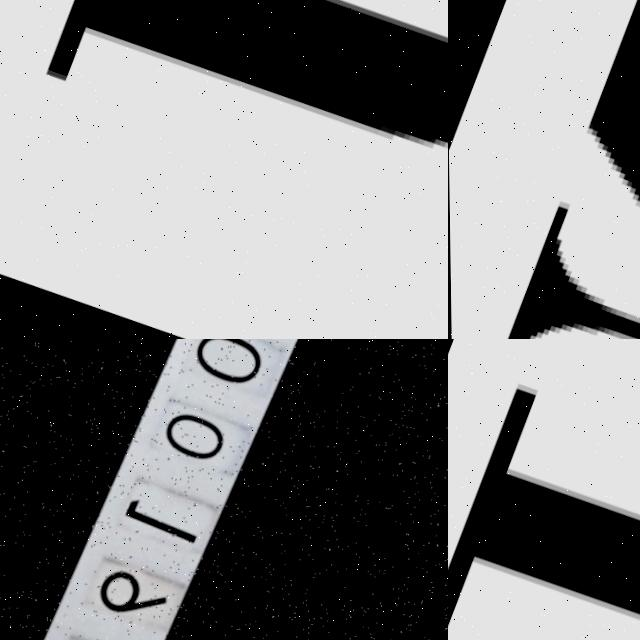0: (140, 390, 242, 481), (168, 339, 282, 409)
1: (106, 465, 216, 563)
9: (77, 548, 182, 640)
I: (448, 352, 640, 640)
J: (28, 0, 448, 266)
N: (470, 0, 640, 339)
